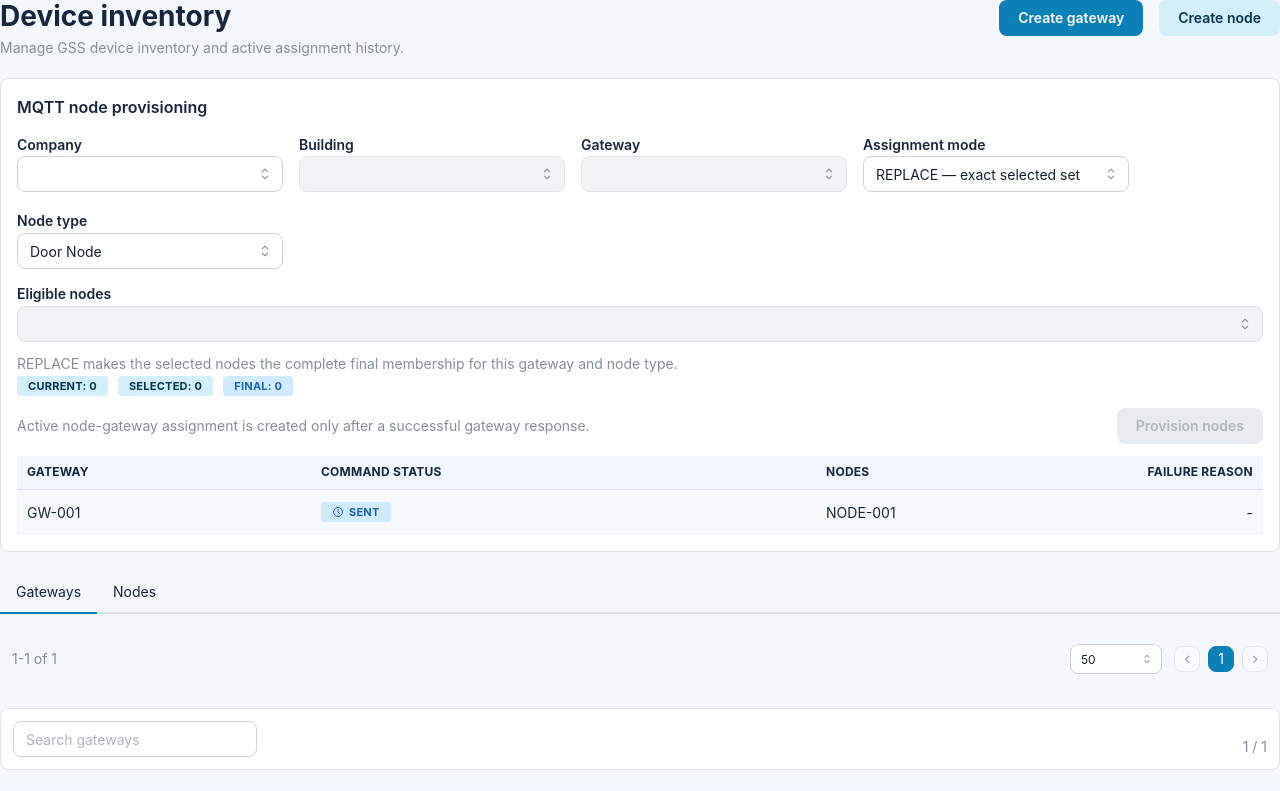
Scenario: Phase 8 Admin devices provisioning UI › previews canonical bulk node input and submits one atomic request
This screenshot has width=1280, height=791.
Click the button "Create node" at (1220, 18), box [1159,0,1279,36]
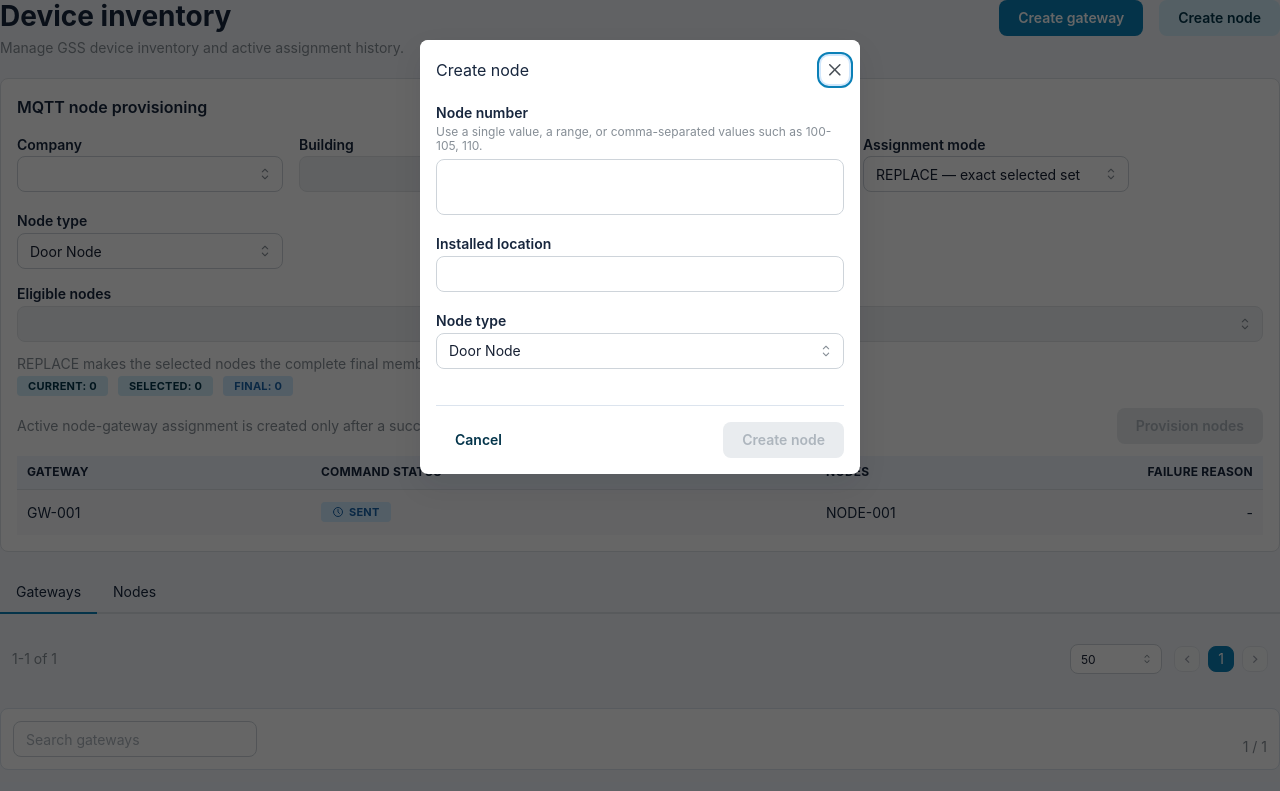
Expected: the heading "Create node" is shown, [436,62,529,78]
Type "100-102, 102" into the text box labelled "Node number" at (640, 187), box [436,159,844,215]
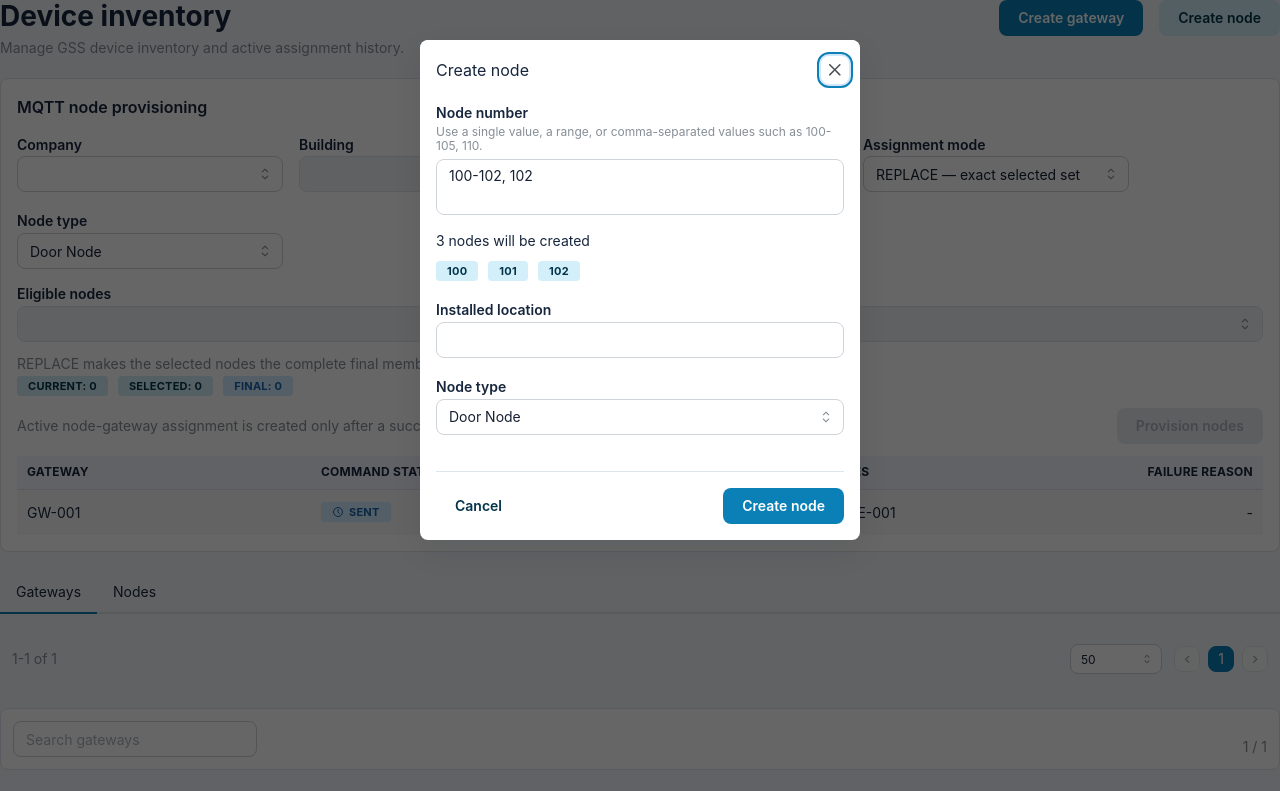
Expected: the text "3 nodes will be created" is shown, [436,232,590,249]
Expected: the text "102" is shown, [549,262,569,280]
Click the button "Create node" at (784, 506), box [723,488,844,524]
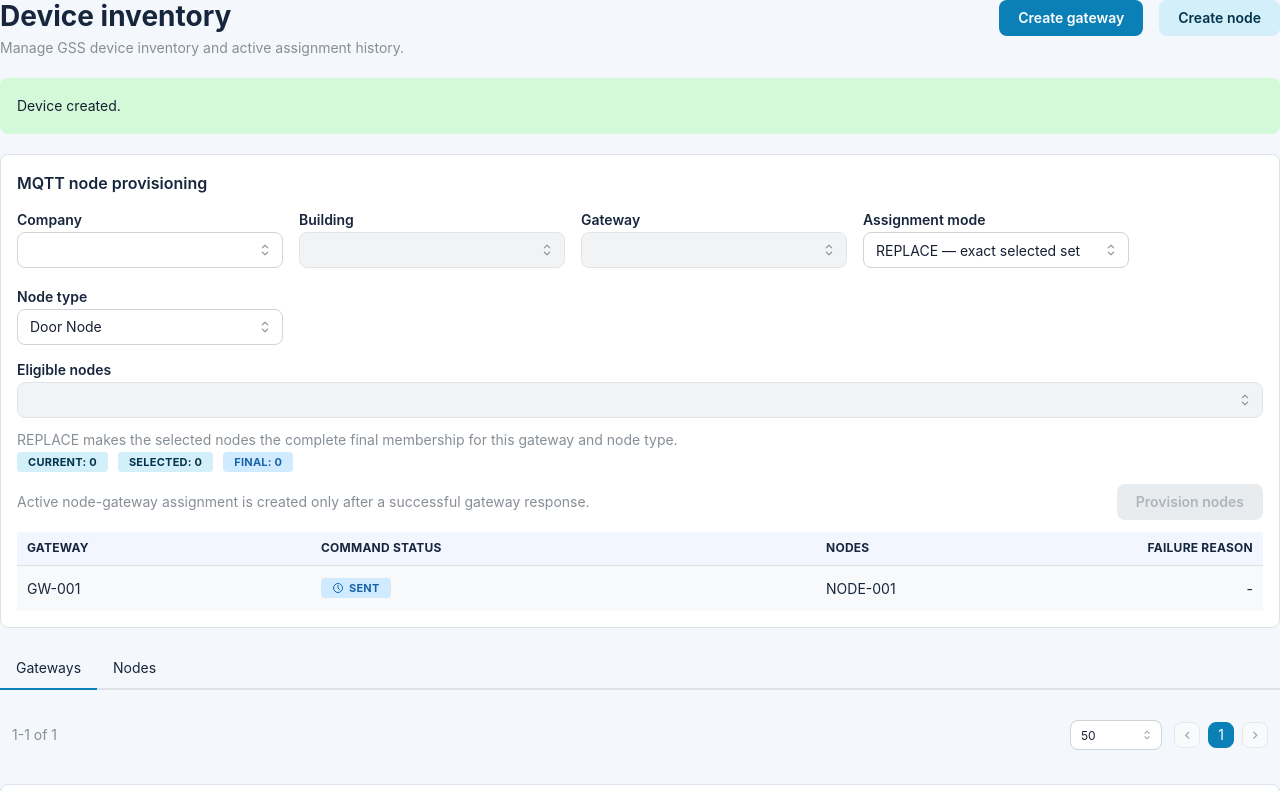
Expected: the text "Device created." is shown, [17,97,121,114]
